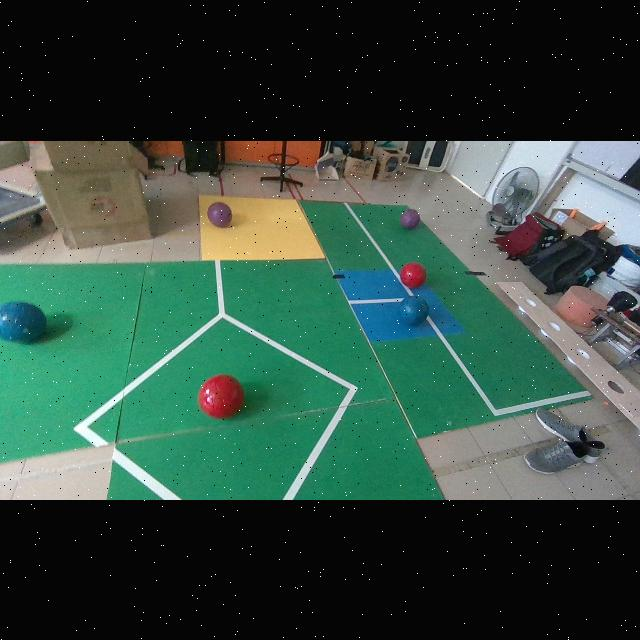B: (0, 302, 47, 341), (399, 295, 428, 326)
P: (207, 202, 232, 227), (400, 208, 421, 228)
R: (198, 375, 245, 418), (400, 261, 427, 287)
